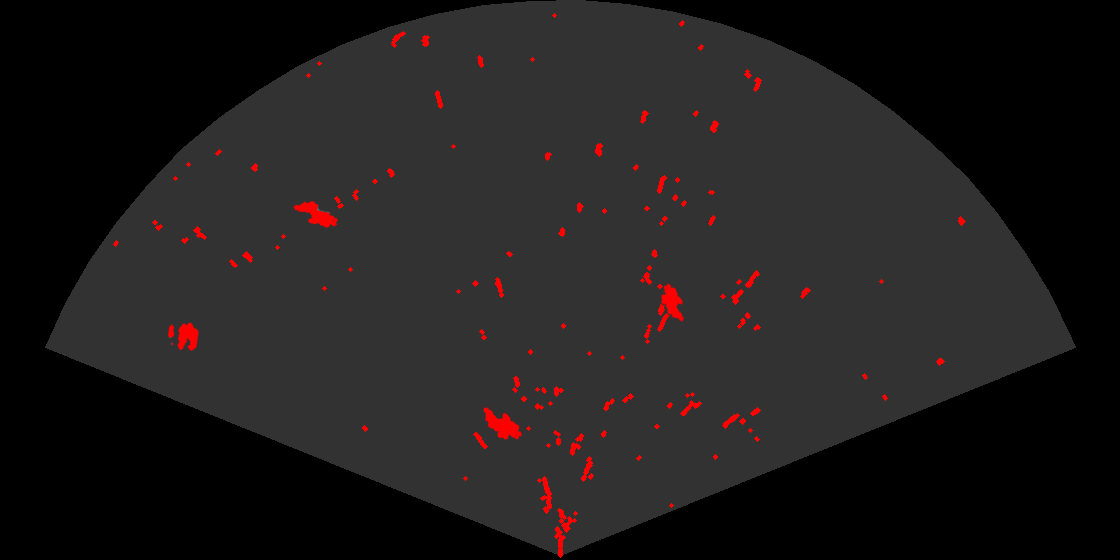AUV: (482, 406, 523, 441), (292, 200, 340, 229), (659, 282, 686, 323)
ball: (166, 321, 200, 353)
